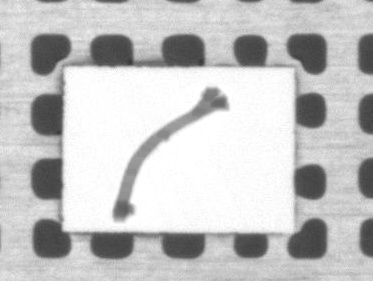DIE_INK: (142, 61, 309, 171)
